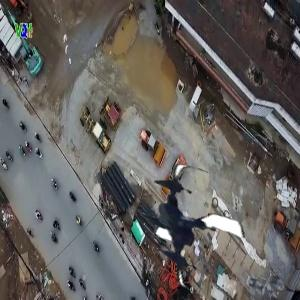drone: (131, 166, 262, 297)
